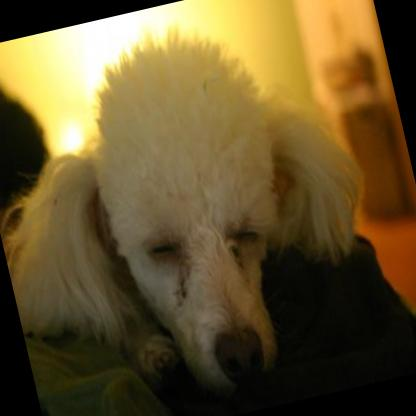toy_poodle: (0, 0, 400, 416)
